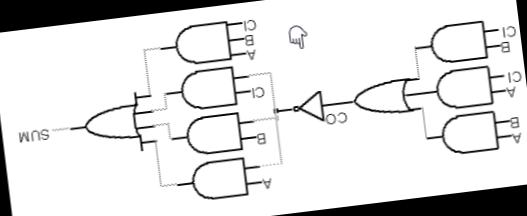and: (434, 107, 504, 158), (170, 18, 237, 68), (431, 62, 495, 113), (422, 18, 490, 66), (176, 63, 237, 112), (183, 110, 244, 158)
not: (290, 87, 327, 128)
or: (348, 74, 416, 122)
